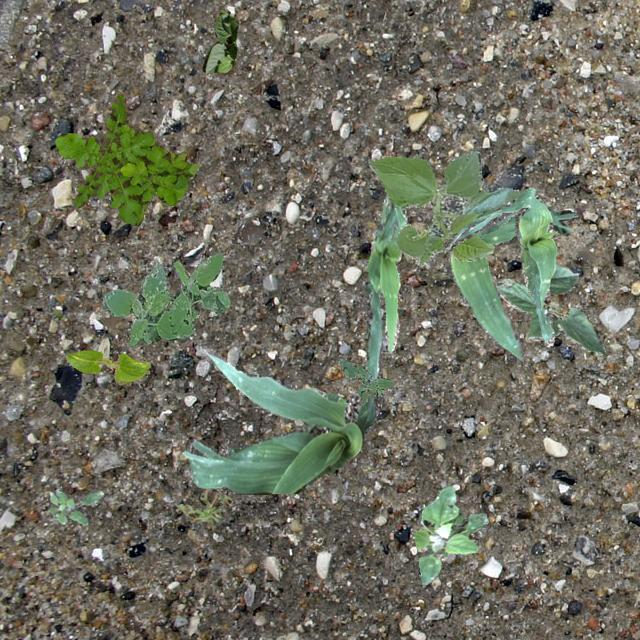crop: (180, 280, 382, 494), (448, 208, 574, 360), (366, 150, 524, 266), (442, 187, 556, 346), (494, 264, 604, 354), (366, 192, 412, 350), (64, 348, 148, 384), (202, 8, 236, 72)
weed: (54, 92, 198, 224), (102, 250, 228, 344), (412, 484, 488, 586), (336, 356, 394, 404), (178, 489, 232, 528), (46, 488, 102, 524)
